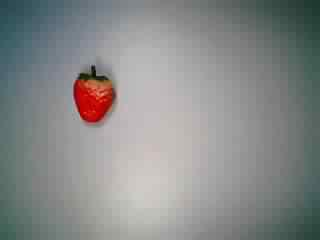strawberry: (59, 59, 118, 128)
